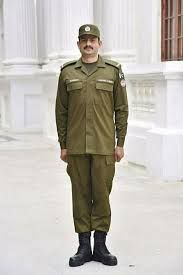uniform: (59, 54, 121, 241)
